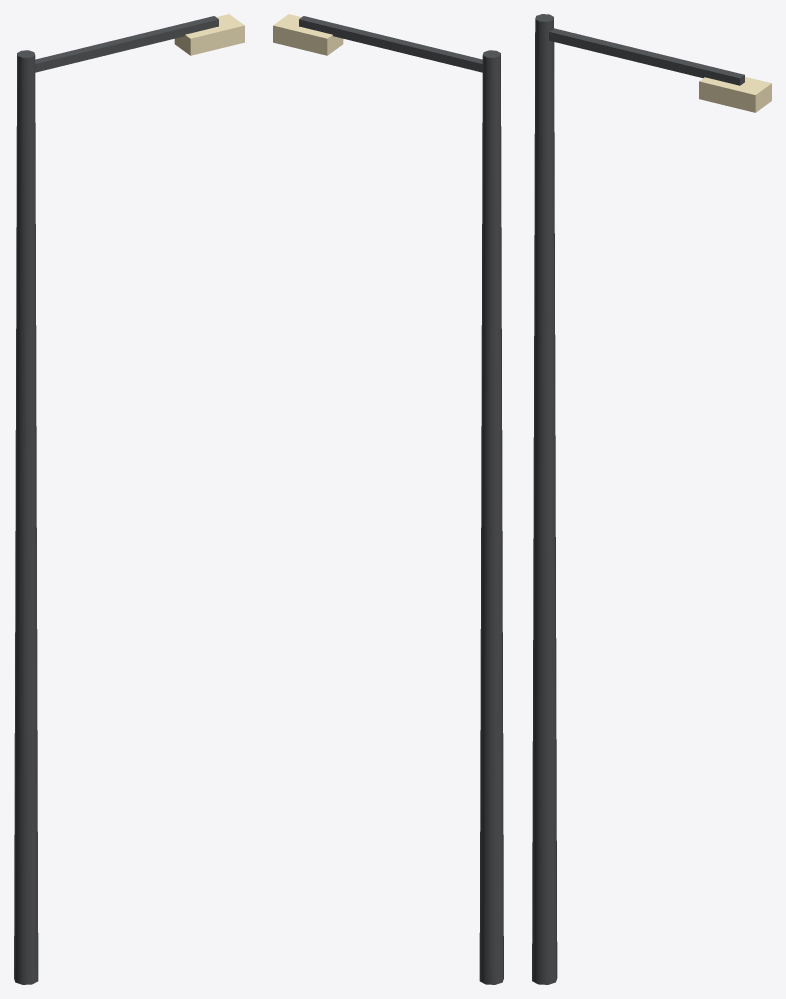
Rendered from lamp-post.obj.
3 views of the same model, side by side, from view 1: azimuth 30°, elevation 25°; view 2: azimuth 150°, elevation 25°; view 3: azimuth 330°, elevation 25° (orthographic). The views are drawn at different scales.
Visible parts, largest first — view 1: lamp-post_0, lamp-post_1, lamp-post_2; view 2: lamp-post_0, lamp-post_1, lamp-post_2; view 3: lamp-post_0, lamp-post_1, lamp-post_2.
Boxes of the visible parts, box(x1,y1,x2,y2) form: lamp-post_0: box(14, 50, 38, 984); lamp-post_1: box(35, 16, 218, 72); lamp-post_2: box(174, 14, 244, 55); lamp-post_0: box(479, 50, 503, 984); lamp-post_1: box(299, 16, 482, 72); lamp-post_2: box(273, 14, 343, 55); lamp-post_0: box(532, 14, 557, 984); lamp-post_1: box(549, 28, 744, 85); lamp-post_2: box(699, 76, 771, 112).
Size of the model in its own units: 1.63 by 6.5 by 0.2.
